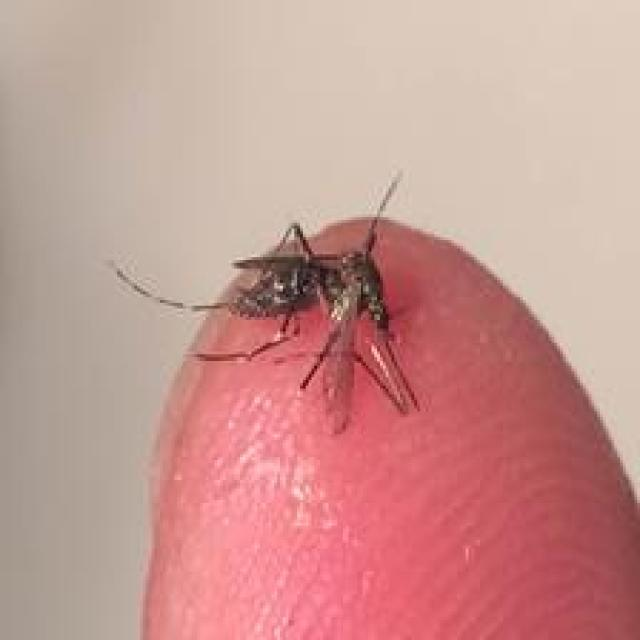Aedes albopictus: (111, 170, 423, 436)
